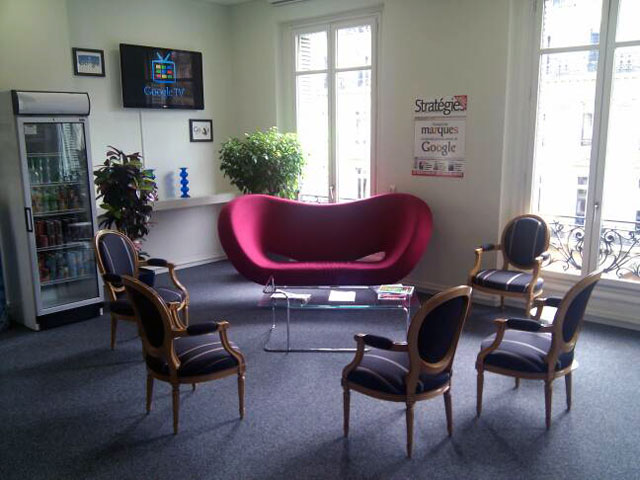google: (138, 82, 177, 102), (418, 139, 462, 155)
